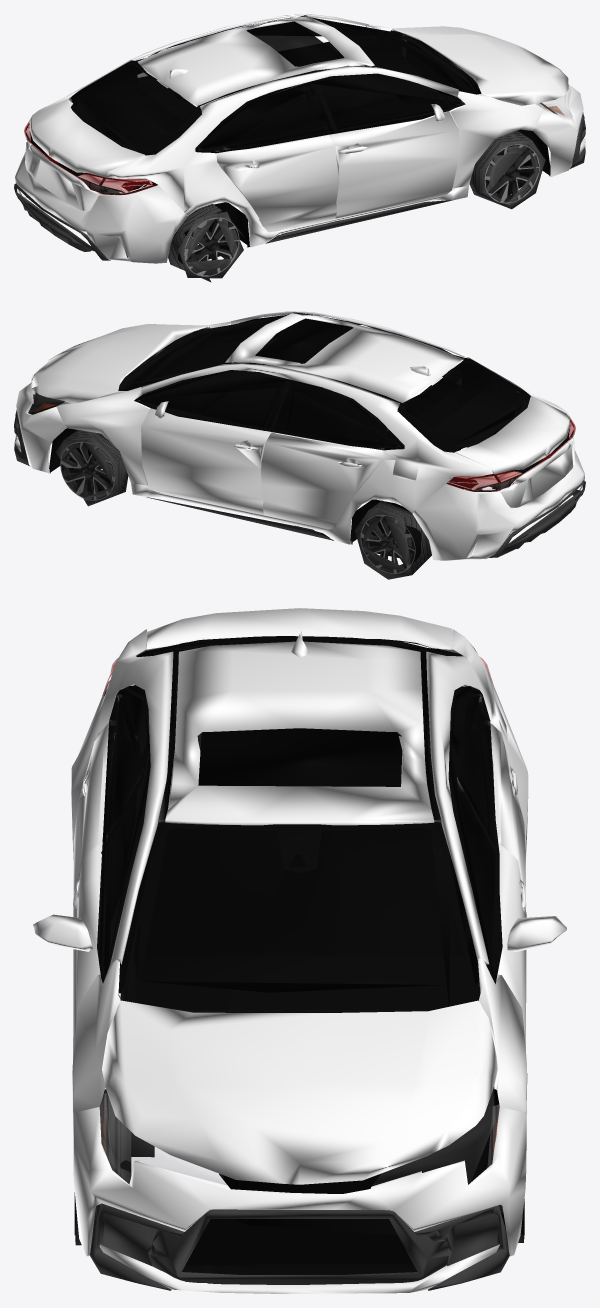
Rendered from toyota_corolla_2020.glb.
3 views of the same model, one above another, from view 1: azimuth 30°, elevation 25°; view 2: azimuth 150°, elevation 25°; view 3: azimuth 270°, elevation 25° (orthographic). The views are drawn at different scales.
Visible parts, largest first — view 1: Object_14, Object_11, Object_7, Object_5; view 2: Object_14, Object_11, Object_7, Object_5; view 3: Object_14, Object_11, Object_7, Object_5.
Boxes of the visible parts, x1,y1,x2,y2 form: Object_14: (15, 14, 585, 263); Object_11: (14, 15, 585, 260); Object_7: (24, 17, 571, 195); Object_5: (71, 18, 545, 282); Object_14: (14, 311, 584, 560); Object_11: (14, 312, 585, 557); Object_7: (28, 314, 575, 491); Object_5: (56, 315, 530, 579); Object_14: (33, 608, 566, 1293); Object_11: (89, 639, 509, 1290); Object_7: (101, 646, 497, 1184); Object_5: (74, 636, 524, 1264).
Size of the model in its own units: 4.2 by 1.3 by 1.88.
Materials: 4 (3 with a texture image).
